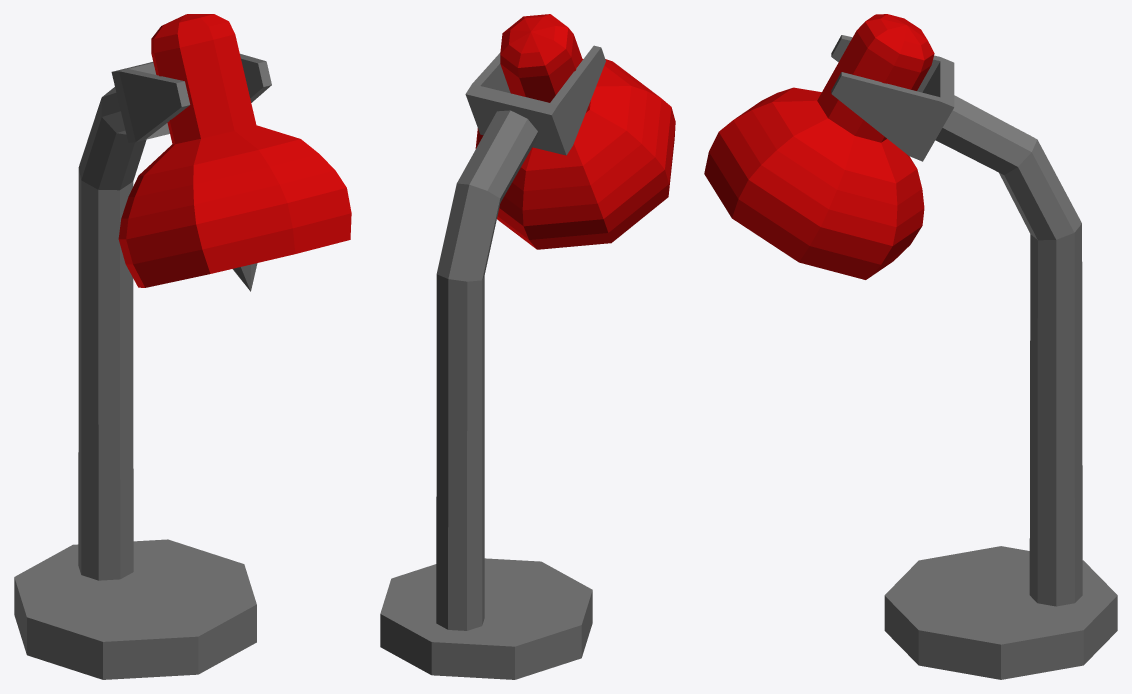
File: table_lamp3.fbx
3 renders of one model, left to right at view 1: azimuth 30°, elevation 25°; view 2: azimuth 150°, elevation 25°; view 3: azimuth 270°, elevation 25°, orthographic. The views are drawn at different scales.
Parts seen in each view (by area): view 1: table_lamp3; view 2: table_lamp3; view 3: table_lamp3.
Part boxes in pixels (x1=…): table_lamp3: x1=14, y1=14, x2=351, y2=679; table_lamp3: x1=380, y1=14, x2=675, y2=679; table_lamp3: x1=704, y1=14, x2=1117, y2=679.
Bounding box in the file's own units: 0.2065 × 0.5978 × 0.3662.
